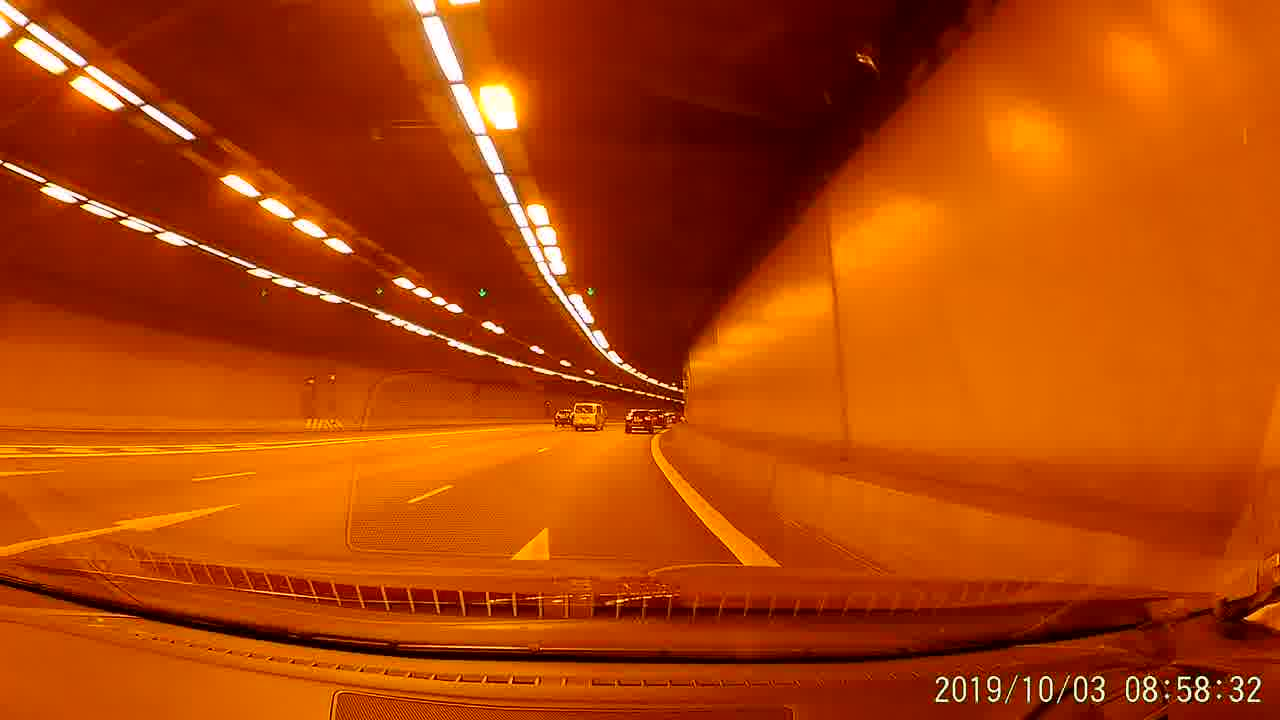car: (621, 408, 657, 435), (647, 408, 669, 428), (553, 406, 572, 427)
